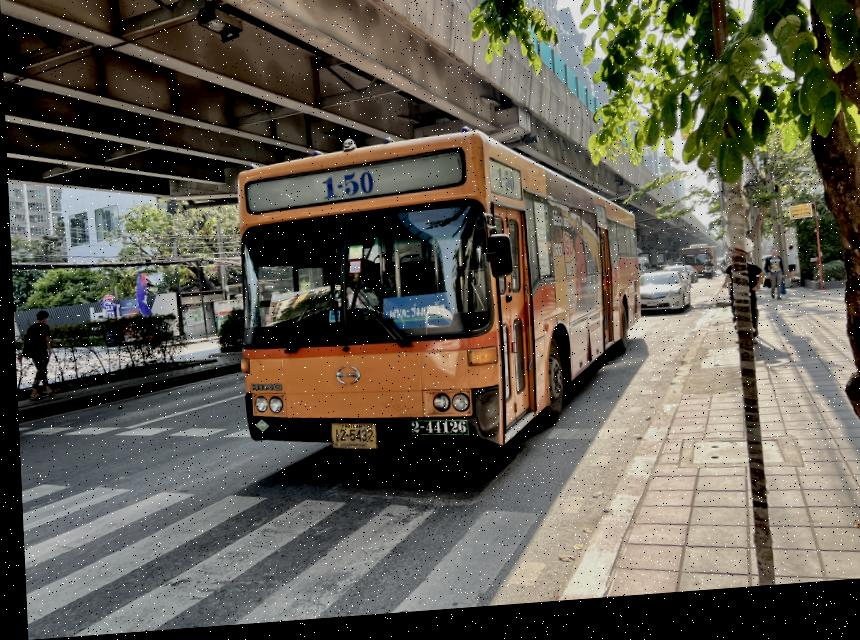BMTA-bus: (231, 140, 638, 488), (683, 255, 711, 286)
Bus Line Number: (313, 172, 378, 207)
Bus Side Number: (404, 423, 468, 446)
Destination Sign: (380, 299, 456, 334)
